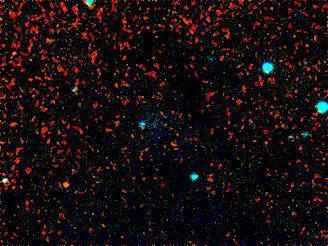star: (52, 170, 82, 200)
